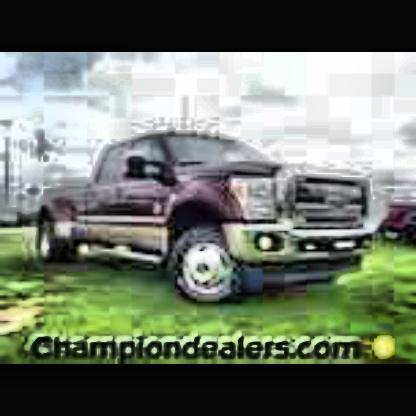Ford F-450 Super Duty Crew Cab 2012: (47, 130, 375, 313)
